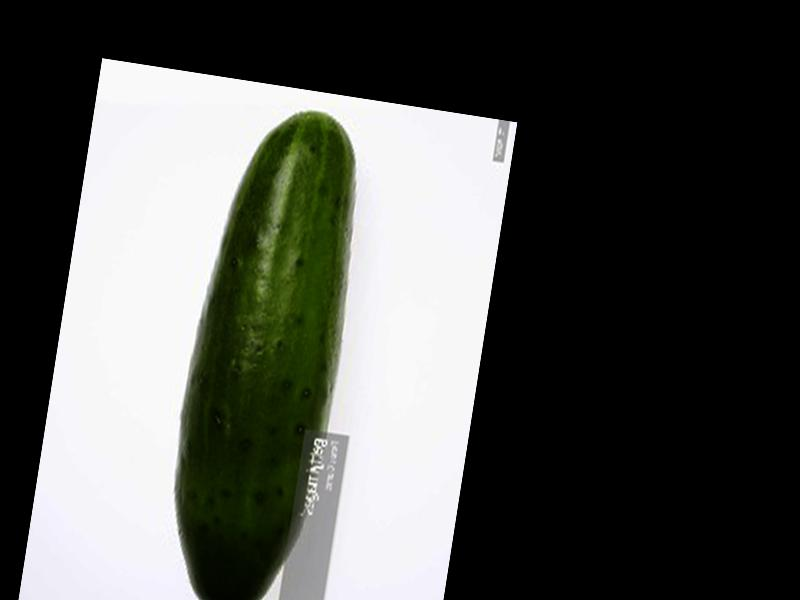Cucumber: (150, 95, 376, 600)
